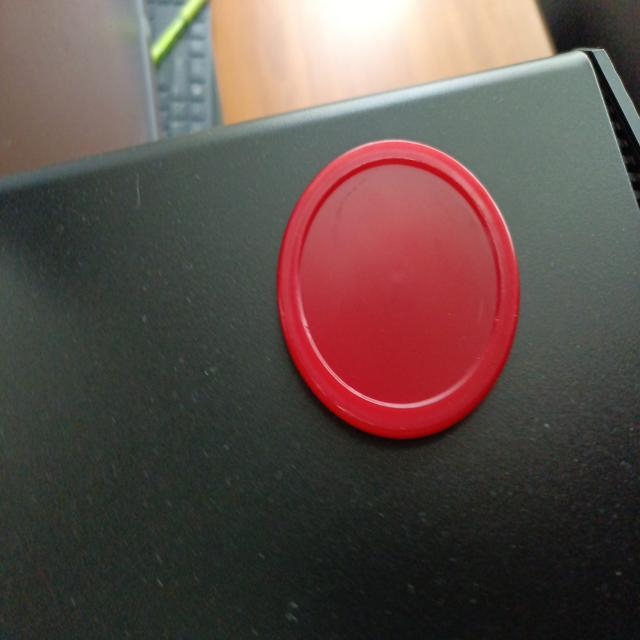chip: (277, 137, 520, 438)
